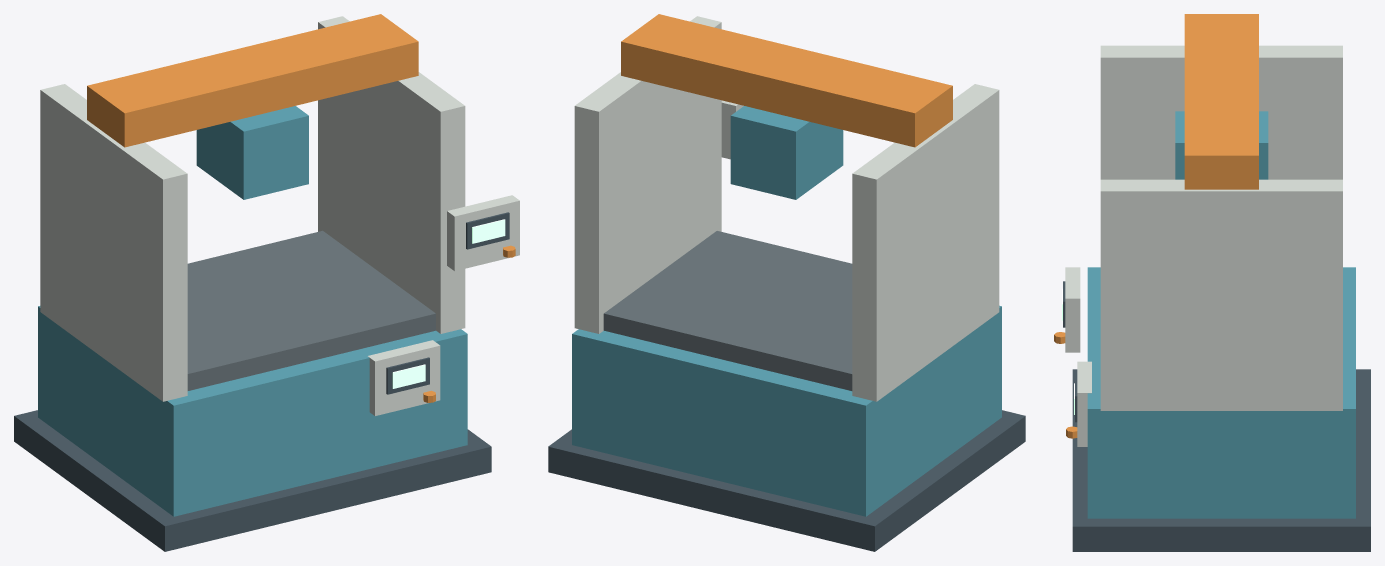
Rendered from carton-packing-machine.glb.
3 renders of one model, left to right at view 1: azimuth 30°, elevation 25°; view 2: azimuth 150°, elevation 25°; view 3: azimuth 270°, elevation 25°, orthographic.
Visible parts, largest first — view 1: cream, blue, rubber, orange, dark, light; view 2: cream, blue, rubber, orange, dark; view 3: cream, blue, dark, orange.
Boxes of the visible parts, x1,y1,x2,y2 form: cream: (40, 16, 519, 415); blue: (38, 106, 467, 516); rubber: (187, 230, 435, 390); orange: (87, 14, 515, 402); dark: (14, 212, 509, 551); light: (392, 219, 505, 388); cream: (574, 16, 999, 401); blue: (572, 106, 1001, 516); rubber: (603, 231, 852, 390); orange: (621, 14, 952, 147); dark: (548, 410, 1025, 551); cream: (1065, 45, 1342, 446); blue: (1087, 111, 1355, 518); dark: (1063, 281, 1370, 551); orange: (1054, 14, 1258, 438).
Size of the model in its own units: 2.15 by 2.3 by 1.7.
